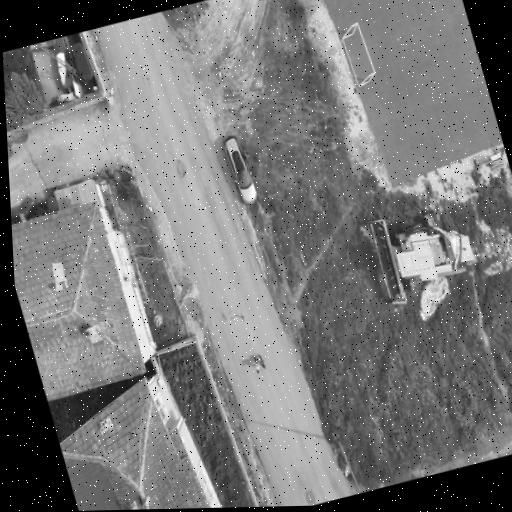car: (224, 135, 258, 205), (39, 41, 46, 44)
harvester: (369, 217, 474, 304)
person: (259, 355, 265, 368), (256, 361, 260, 374), (244, 150, 249, 160)
